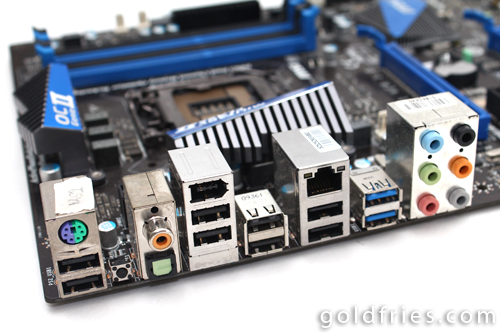Ethernet: (300, 161, 353, 199)
